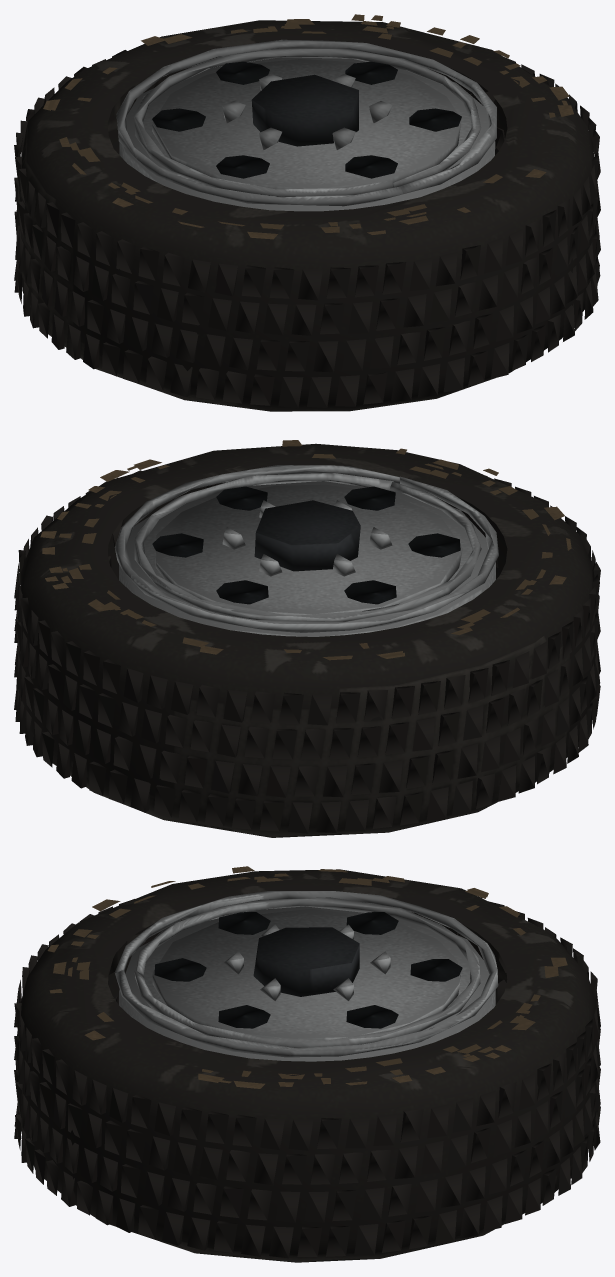
The model's file is pickup_wheel_rear_left.obj.
3 renders of one model, top to bottom at view 1: azimuth 30°, elevation 25°; view 2: azimuth 150°, elevation 25°; view 3: azimuth 270°, elevation 25°, orthographic.
Visible parts, largest first — view 1: PIECE_L6_wheel_-1.53_1; view 2: PIECE_L6_wheel_-1.53_1; view 3: PIECE_L6_wheel_-1.53_1.
Part boxes in pixels (x1,y1,x2,y2): PIECE_L6_wheel_-1.53_1: (14, 14, 600, 411); PIECE_L6_wheel_-1.53_1: (14, 440, 600, 837); PIECE_L6_wheel_-1.53_1: (14, 866, 600, 1262).
Size of the model in its own units: 0.7199 by 0.2804 by 0.72.
Materials: 1 (1 with a texture image).
